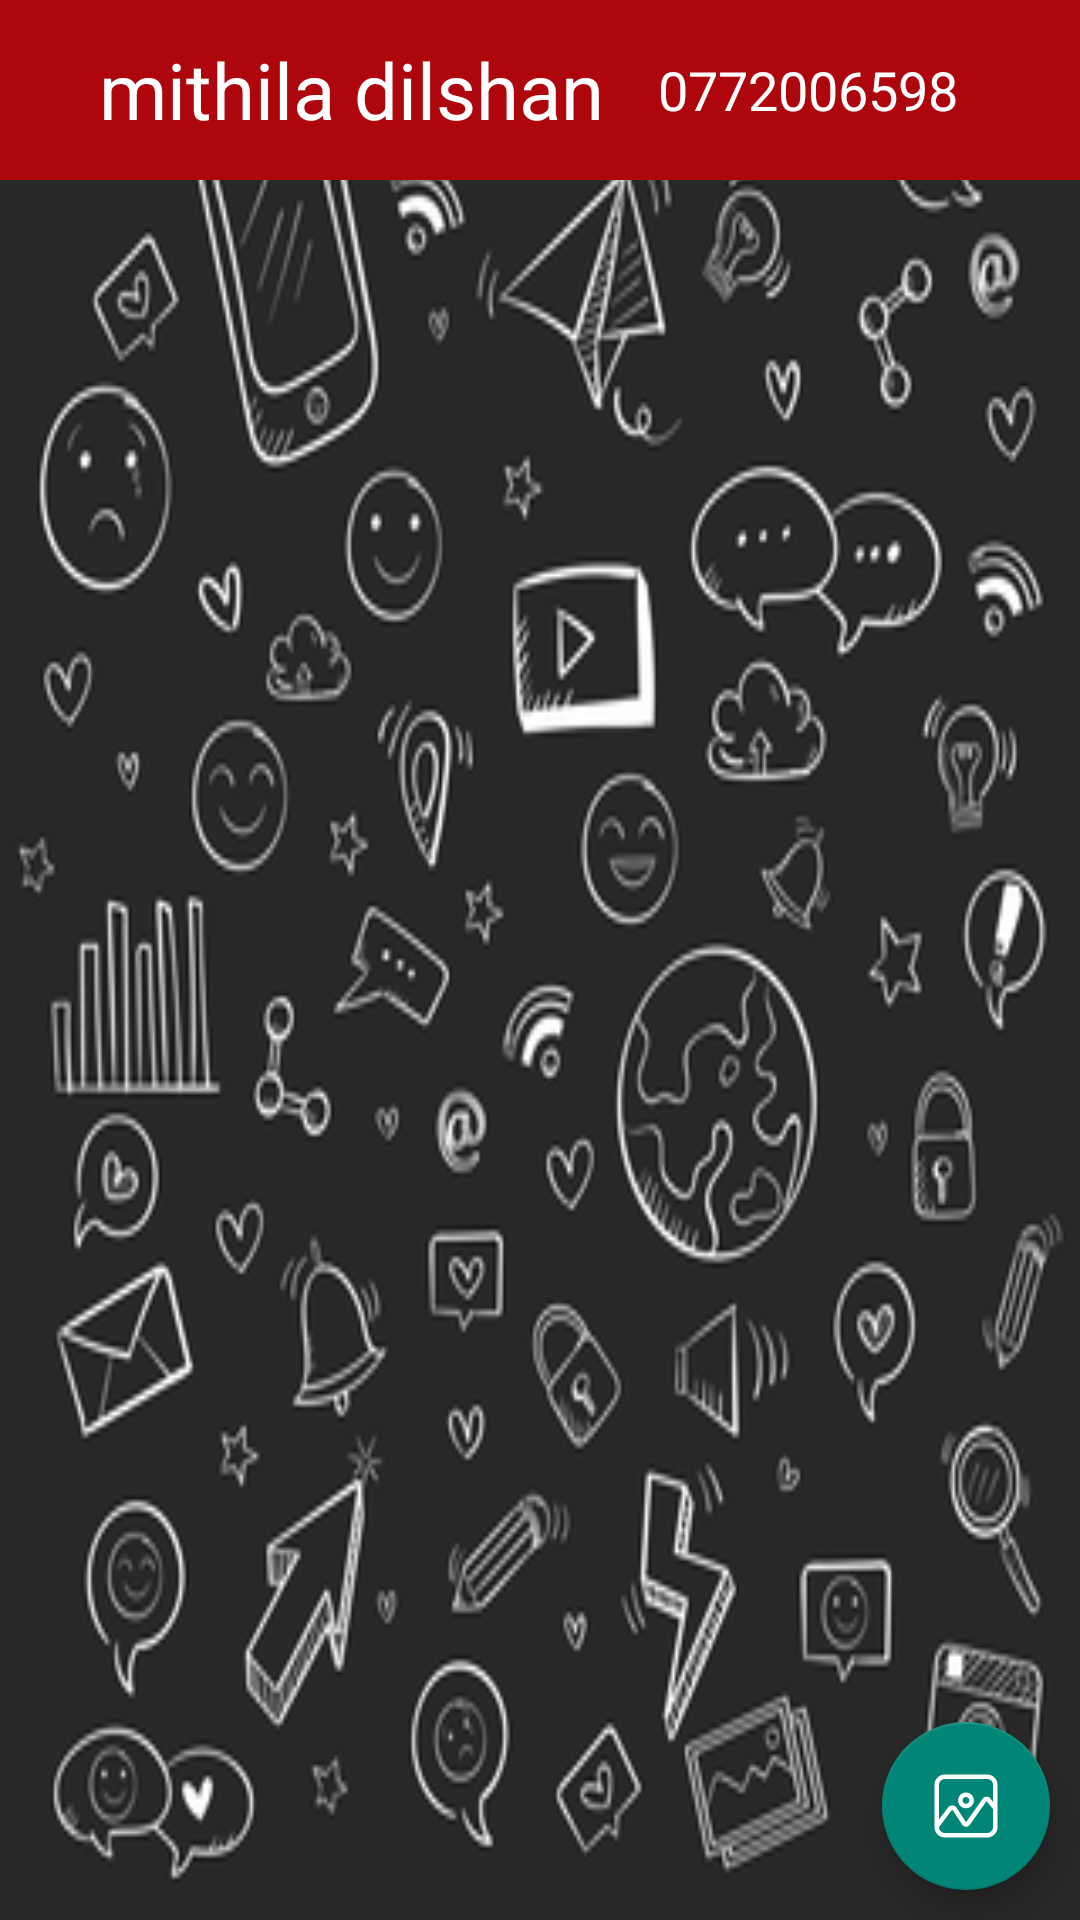

Where to tap for icons on this 1080×1920 app screen, as (x,y):
sendimage: (966,1806)
